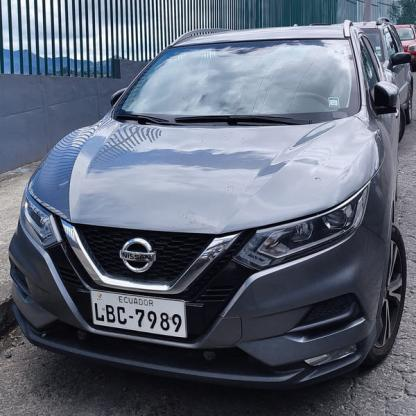Placa: (90, 290, 190, 339)
